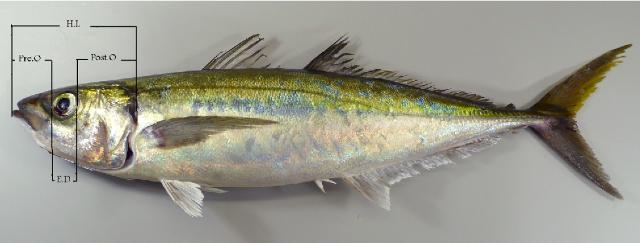Mulut: (5, 92, 45, 142)
Sirip Anal: (352, 126, 508, 218)
Sirip Dada: (139, 106, 273, 154)
Sirip Ekor: (530, 31, 632, 208)
Sirip Perut: (157, 173, 231, 225)
Sirip Punggung: (196, 32, 418, 86)
